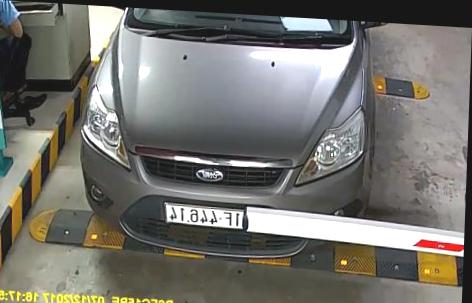License_Plate: (162, 197, 259, 232)
